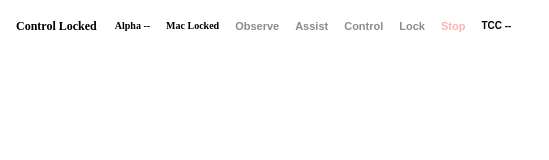
Test: ControlSafetyStrip › stops local capture/control loops from the local UI
Click the button "Stop".
click(453, 26)  # box [435,14,472,38]
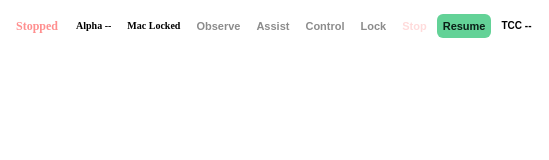
Now the text "Stopped" is shown, box [16,18,58,32]
